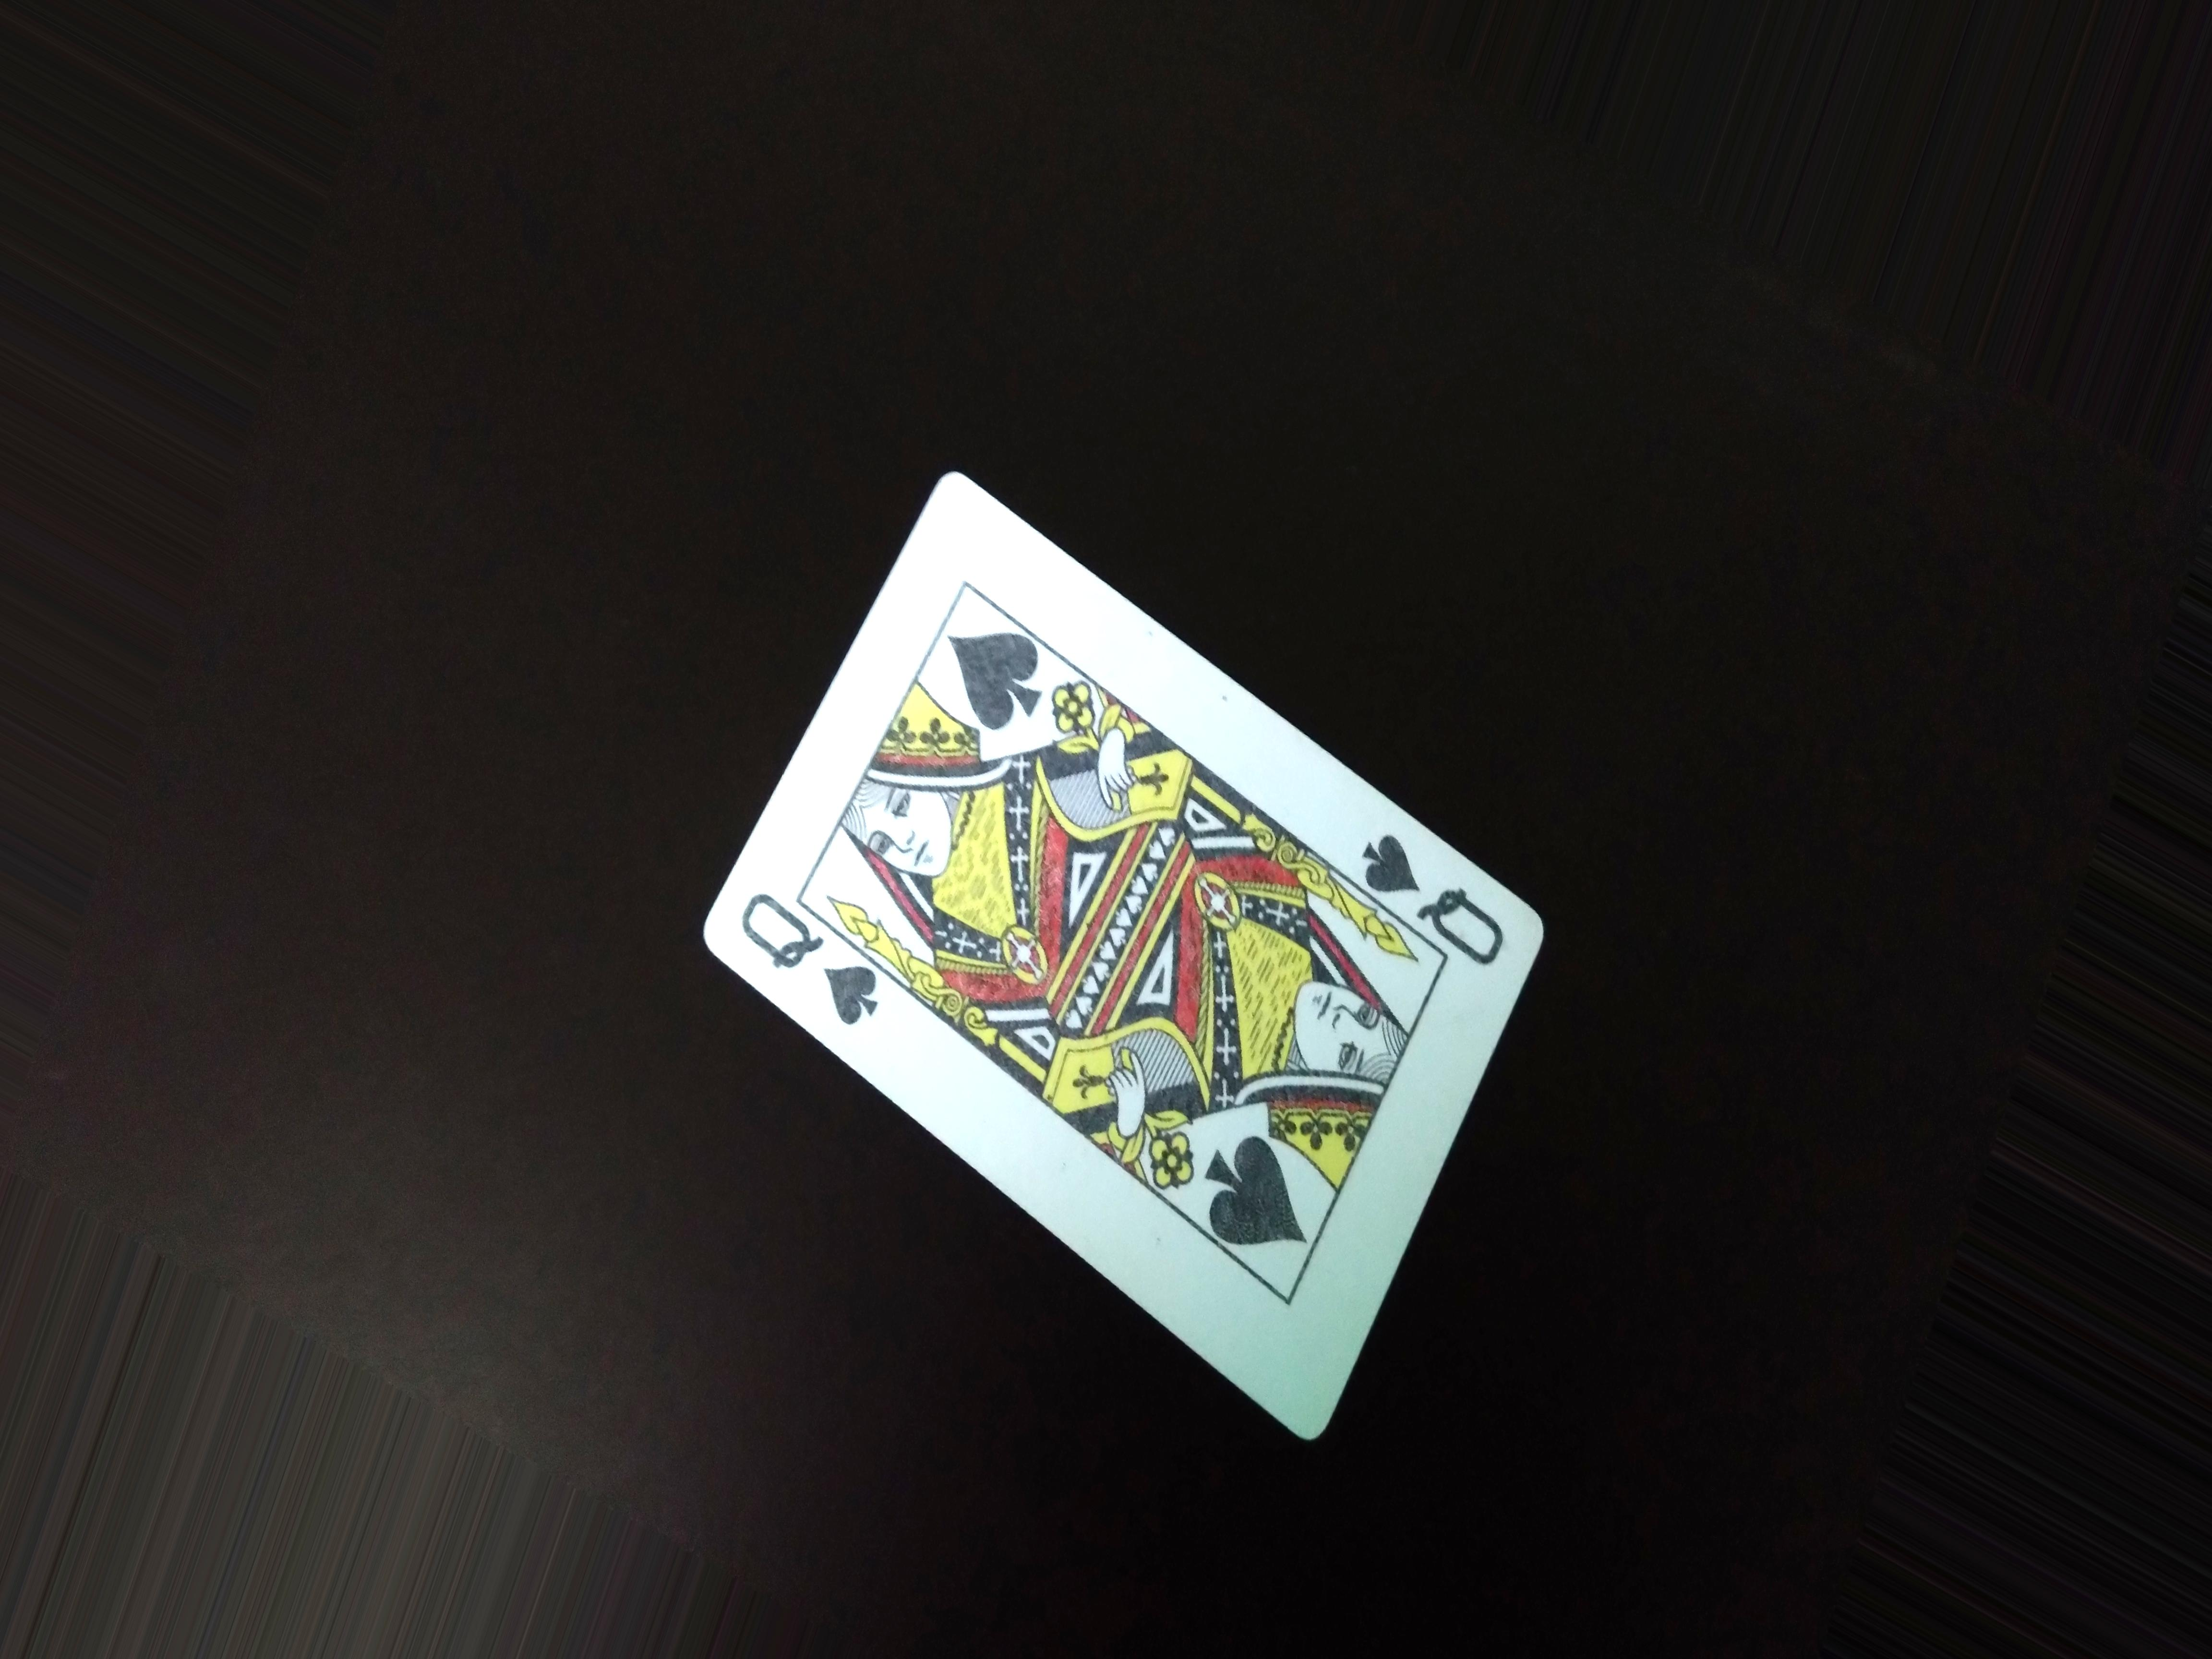QS: (730, 880, 897, 1033)
